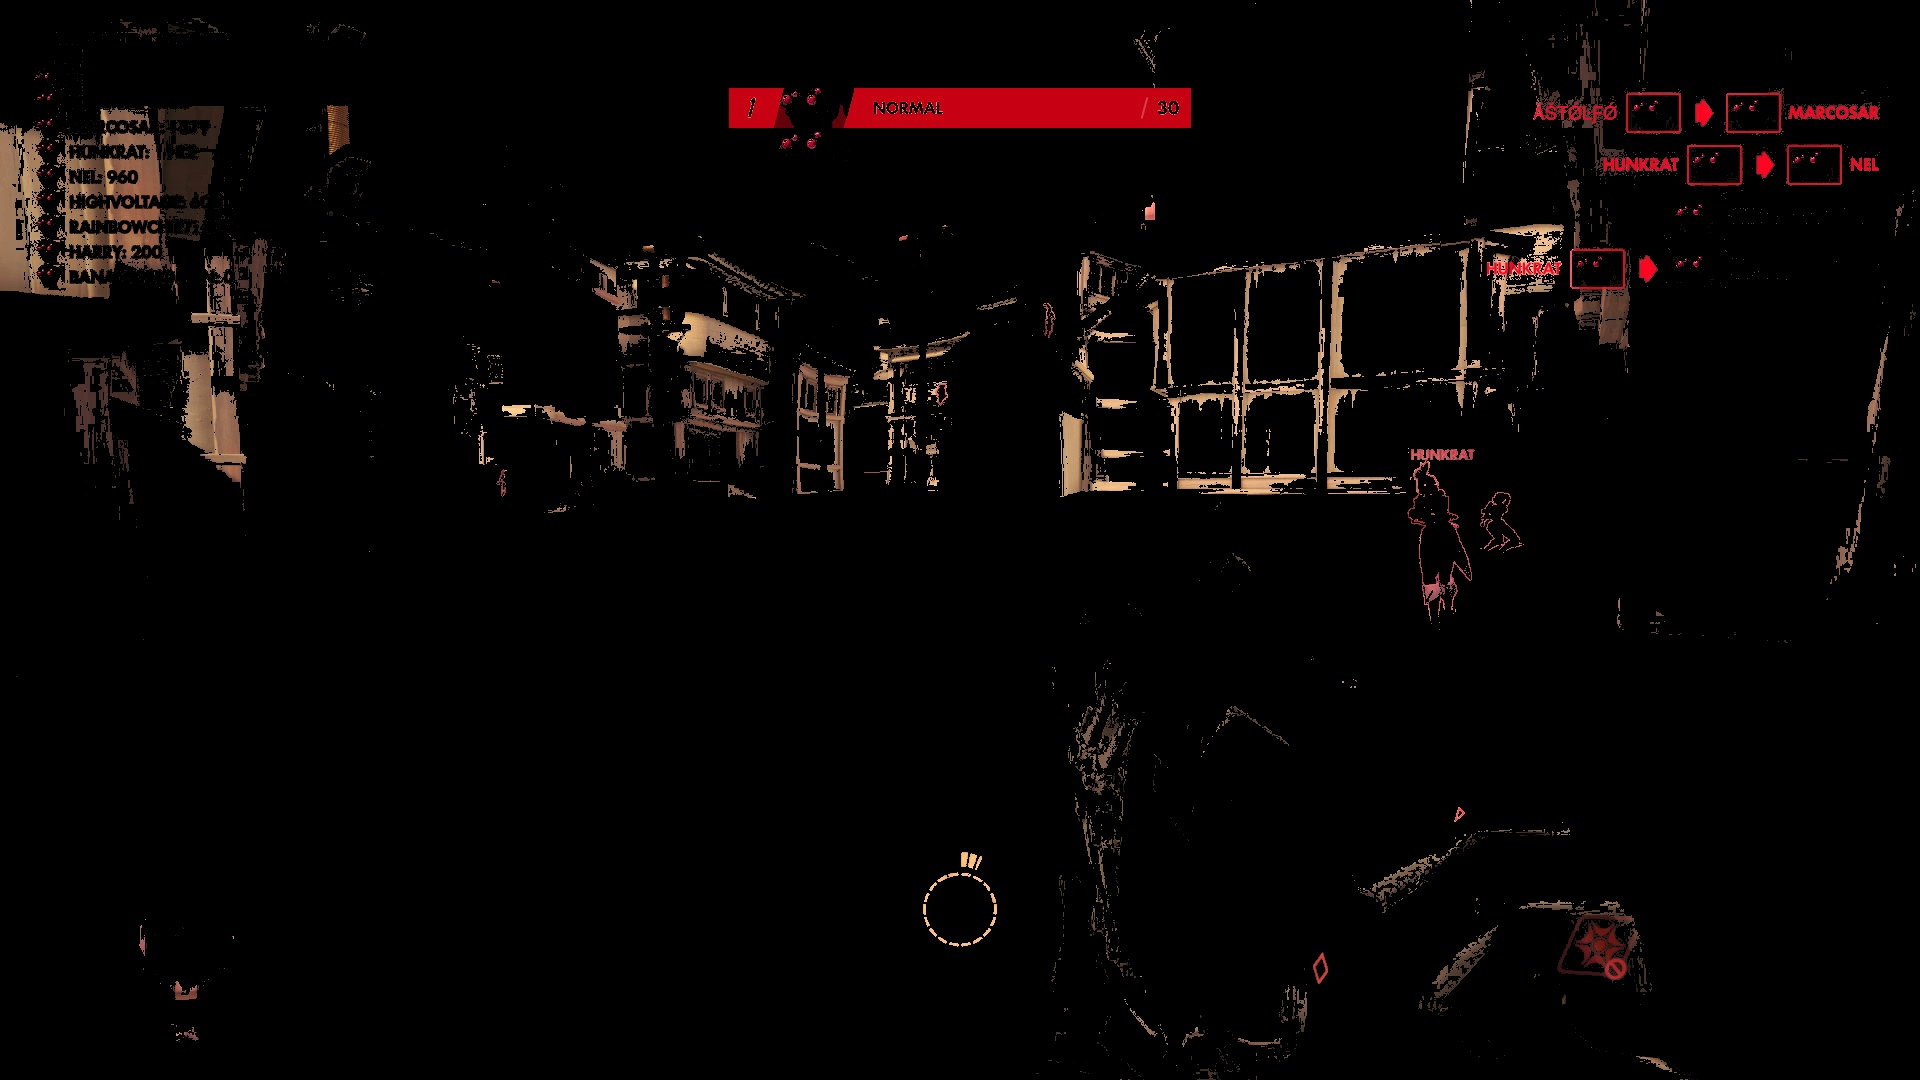widowmaker: (1403, 460, 1473, 644), (1477, 491, 1526, 568), (493, 465, 516, 508), (1040, 301, 1059, 342), (932, 380, 953, 411)
